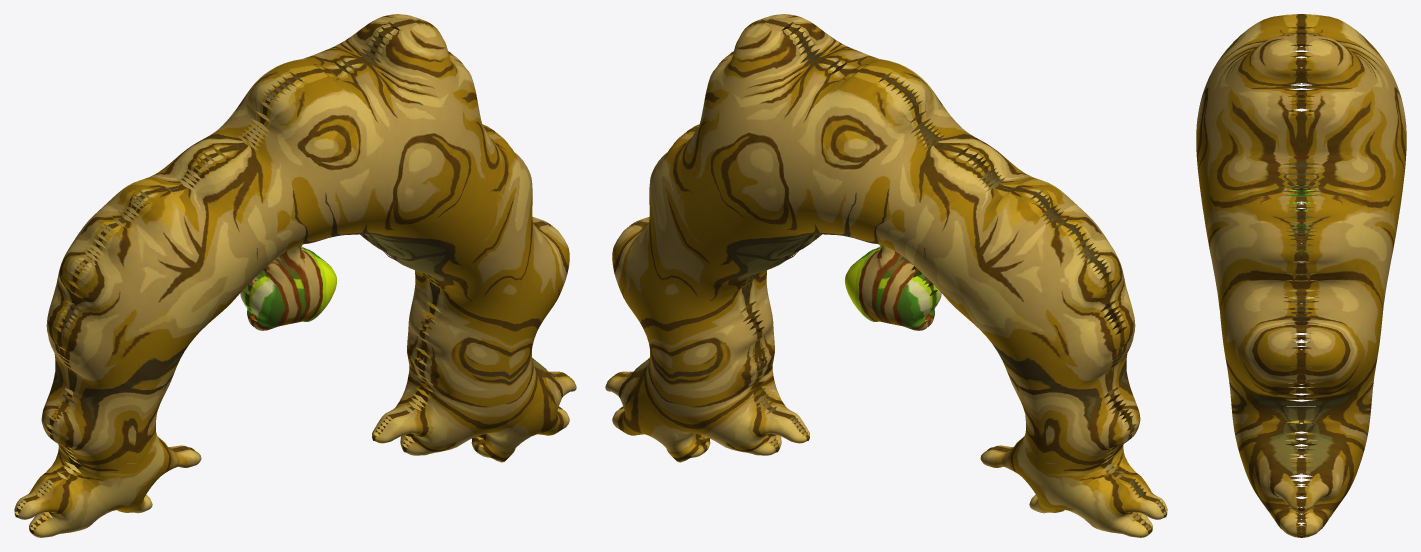
Rendered from root_arch.glb.
3 views of the same model, side by side, from view 1: azimuth 30°, elevation 25°; view 2: azimuth 150°, elevation 25°; view 3: azimuth 270°, elevation 25° (orthographic). The views are drawn at different scales.
Visible parts, largest first — view 1: root_arch; view 2: root_arch; view 3: root_arch.
Boxes of the visible parts, x1,y1,x2,y2 form: root_arch: [14, 14, 576, 537]; root_arch: [605, 14, 1167, 537]; root_arch: [1196, 14, 1406, 537].
Size of the model in its own units: 0.9886 by 0.767 by 0.3335.
Materials: 1 (1 with a texture image).
